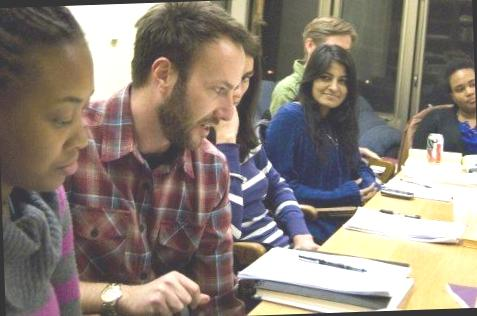no_vest: (55, 136, 234, 278), (272, 103, 358, 203)
person: (63, 4, 266, 292), (268, 36, 368, 212)
